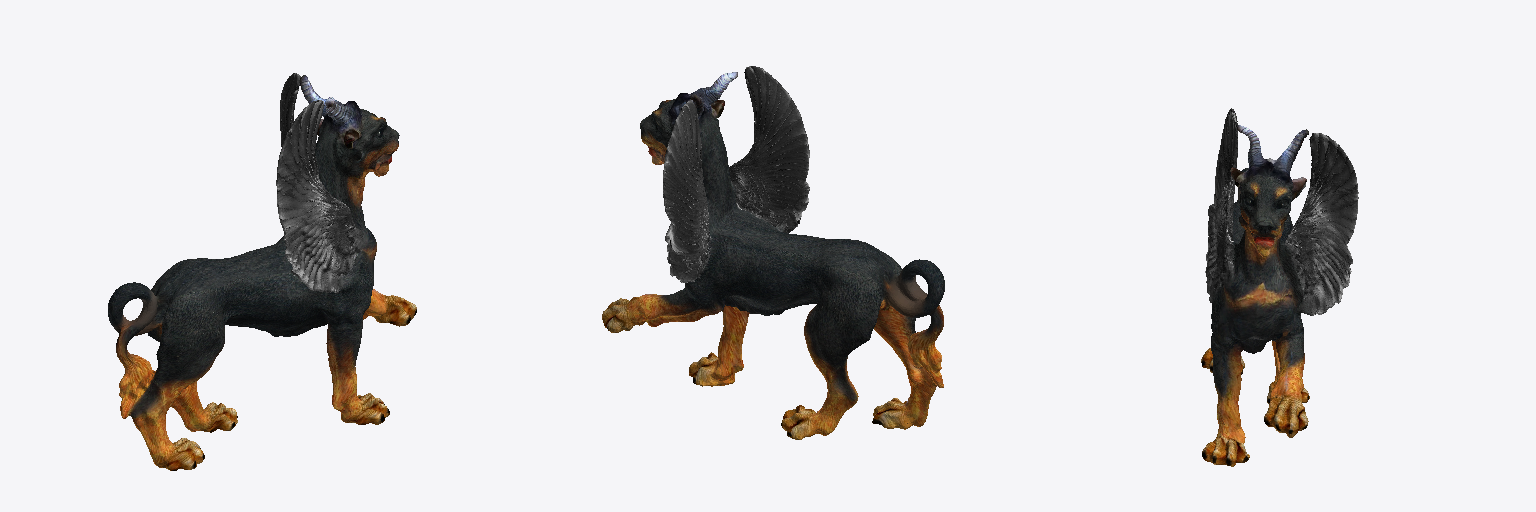
3 views of the same model, side by side, from view 1: azimuth 30°, elevation 25°; view 2: azimuth 150°, elevation 25°; view 3: azimuth 270°, elevation 25° (orthographic).
Parts seen in each view (by area): view 1: object19, object23, object11, object10, object18, object14, object12, object26, object8, object13, object20, object3 (+6 smaller); view 2: object7, object22, object11, object0, object17, object21, object15, object26, object10, object12, object27, object4 (+5 smaller); view 3: object1, object8, object23, object10, object3, object21, object19, object6, object7, object16, object2, object9 (+1 smaller).
Part boxes in pixels (x1,y1,x2,y2): object19: (129, 251, 373, 463); object23: (276, 100, 363, 292); object11: (154, 122, 340, 322); object10: (350, 109, 399, 168); object18: (118, 325, 155, 418); object14: (333, 133, 374, 230); object12: (159, 313, 328, 336); object26: (108, 282, 153, 335); object8: (349, 164, 388, 285); object13: (159, 325, 209, 431); object20: (163, 438, 204, 470); object3: (306, 76, 361, 148); object7: (628, 235, 881, 435); object22: (729, 66, 808, 232); object11: (699, 116, 895, 300); object0: (663, 101, 710, 282); object17: (874, 306, 935, 424); object21: (711, 305, 746, 385); object15: (908, 307, 943, 387); object26: (900, 259, 944, 317); object10: (640, 98, 676, 162); object12: (724, 294, 889, 315); object27: (883, 272, 926, 316); object4: (781, 405, 815, 439); object1: (1285, 133, 1358, 315); object8: (1218, 229, 1299, 342); object23: (1205, 108, 1237, 300); object10: (1239, 174, 1292, 246); object3: (1230, 125, 1308, 198); object21: (1218, 342, 1245, 443); object19: (1210, 287, 1229, 437); object6: (1264, 394, 1308, 434); object7: (1281, 215, 1304, 401); object16: (1202, 435, 1249, 466); object2: (1277, 199, 1308, 314); object9: (1270, 334, 1290, 400).
Size of the model in its own units: 500 by 486 by 212.
1 materials, 1 textured.